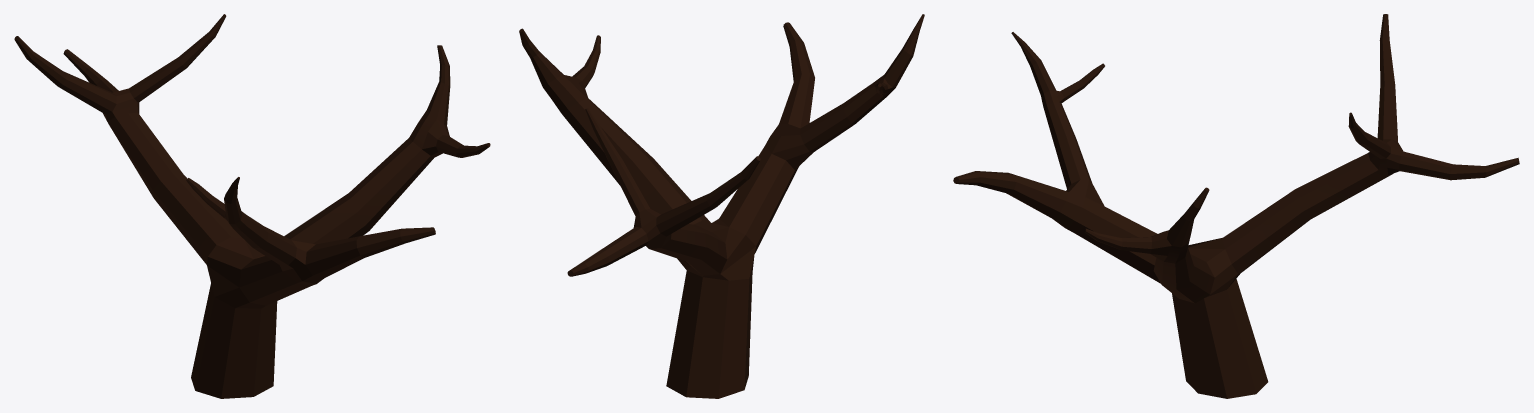
The model's file is Twig01.fbx.
The picture shows the model from 3 angles, left to right: view 1: azimuth 30°, elevation 25°; view 2: azimuth 150°, elevation 25°; view 3: azimuth 270°, elevation 25°; orthographic projection. The views are drawn at different scales.
Visible parts, largest first — view 1: pCylinder51; view 2: pCylinder51; view 3: pCylinder51.
Boxes of the visible parts, x1=… form: pCylinder51: x1=14, y1=14, x2=490, y2=398; pCylinder51: x1=519, y1=14, x2=924, y2=398; pCylinder51: x1=953, y1=14, x2=1519, y2=398.
Bounding box in the file's own units: 0.85 × 0.7693 × 1.29.
